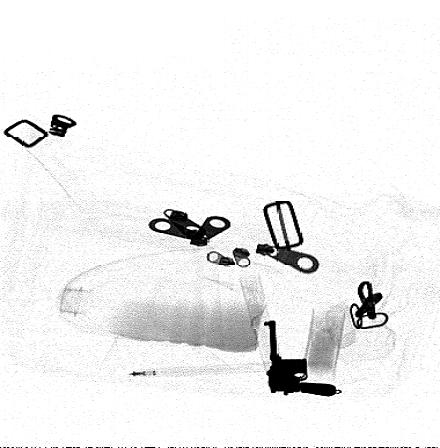Gun: (263, 319, 339, 398)
